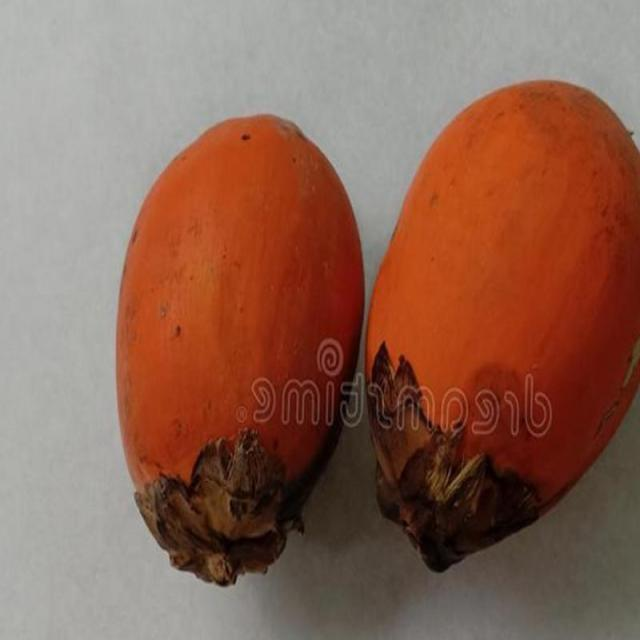good: (360, 80, 639, 575), (115, 115, 366, 589)
